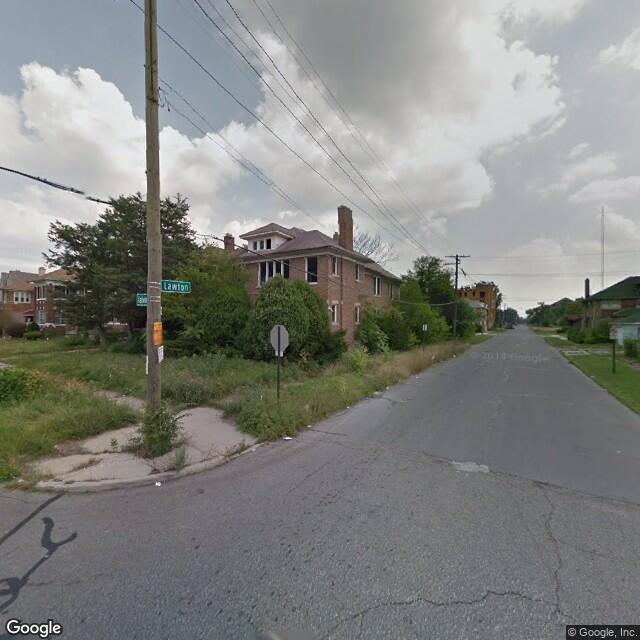litter: (153, 480, 163, 489), (345, 405, 353, 412), (282, 435, 291, 441), (305, 423, 314, 429), (451, 352, 457, 358), (384, 386, 390, 390)
